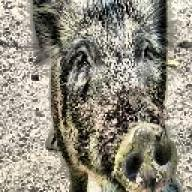boar: (24, 0, 178, 192)
